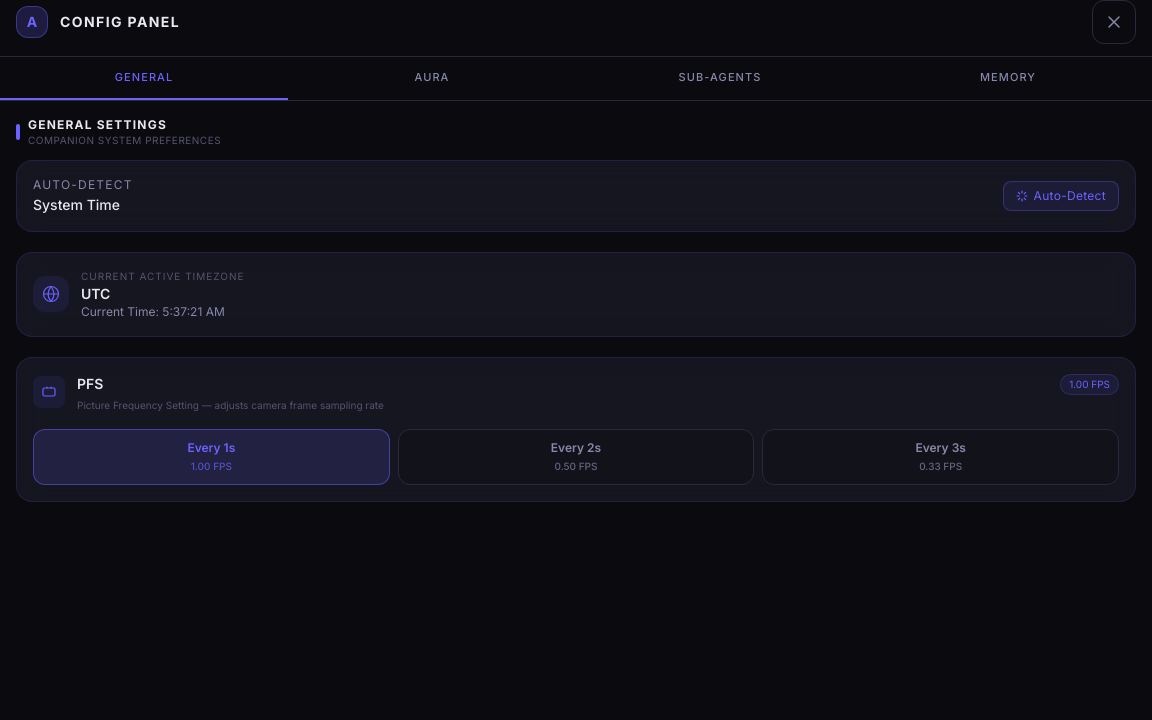
Scenario: ConfigPanel › switches to Aura tab on click
This screenshot has width=1152, height=720.
Click the tab "Aura" at (432, 78), box 288,57 -> 576,100
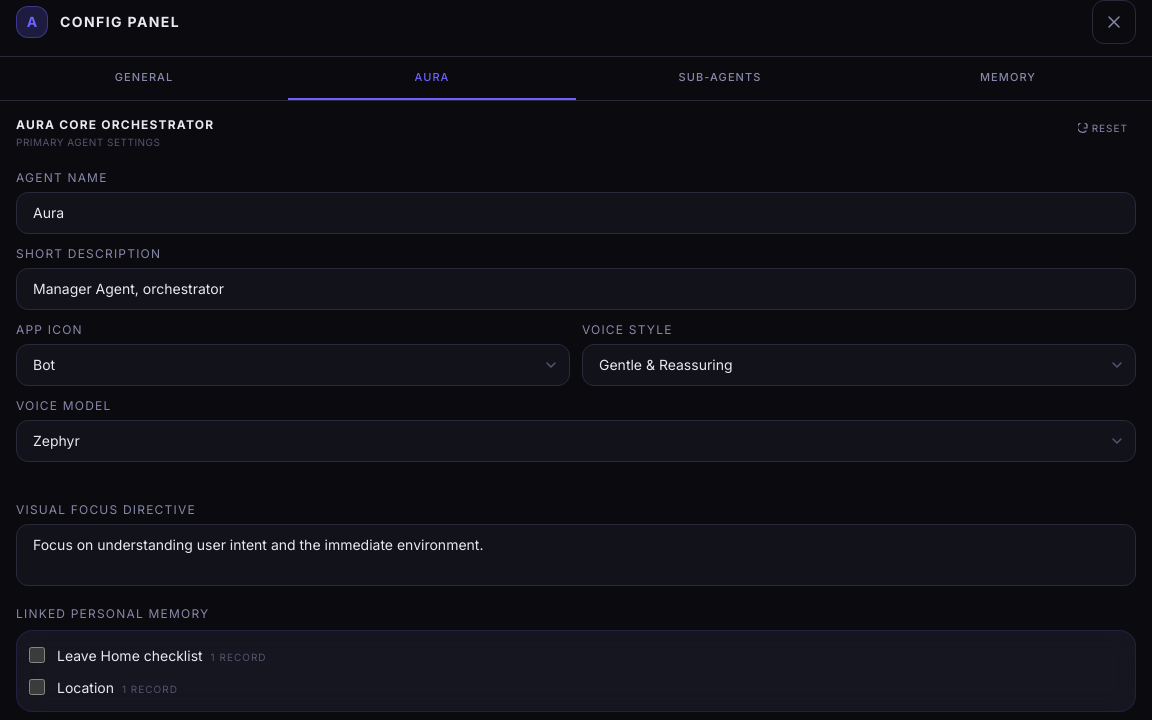
Now the heading "Aura Core Orchestrator" is shown, box 16,116 -> 214,132
